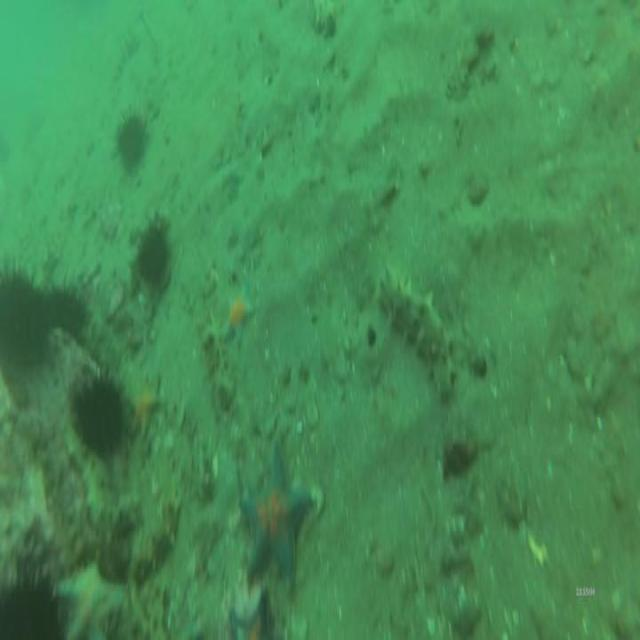echinus: (68, 362, 129, 466), (0, 258, 50, 378), (0, 562, 65, 640), (40, 272, 92, 348), (132, 204, 172, 294), (111, 107, 154, 177)
holothurian: (372, 259, 459, 403), (120, 490, 181, 586), (200, 310, 236, 416), (180, 402, 214, 502)
starfish: (235, 431, 313, 596), (125, 379, 163, 444), (222, 282, 255, 350), (224, 599, 277, 640)
